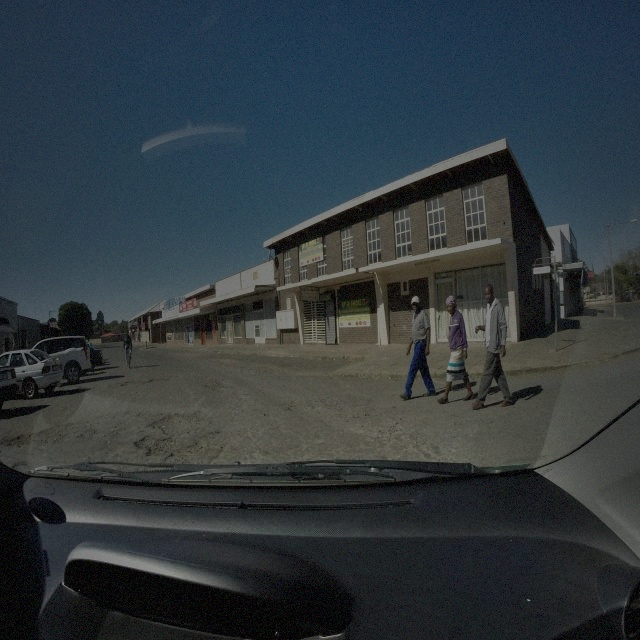pothole: (133, 432, 178, 454), (7, 426, 91, 437), (190, 436, 219, 452), (11, 435, 35, 444), (147, 376, 168, 382), (122, 381, 135, 388)
